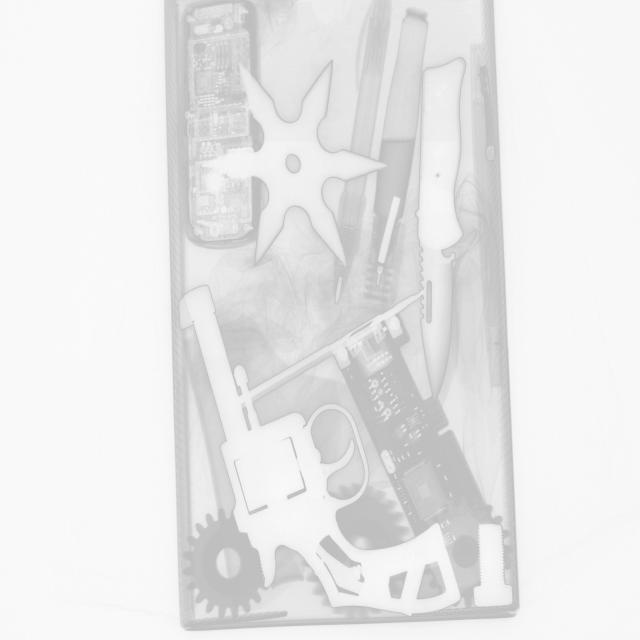knife: (418, 56, 472, 404)
pistol: (177, 285, 461, 615)
